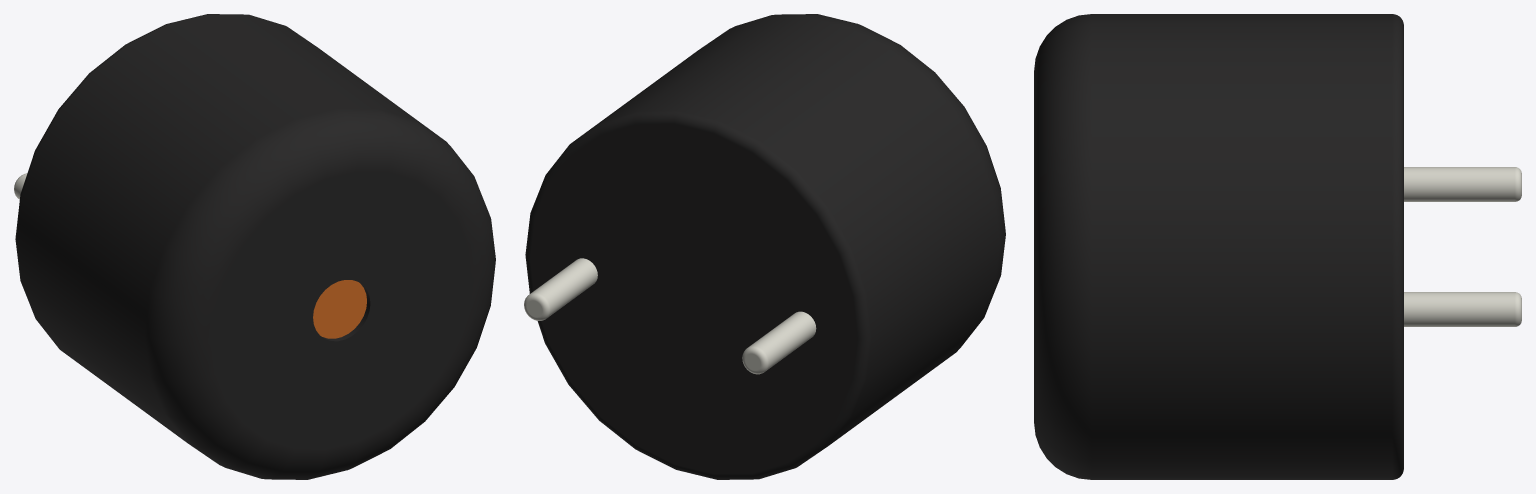
Rendered from Buzzer_12x9.5_piezo.glb.
3 views of the same model, side by side, from view 1: azimuth 30°, elevation 25°; view 2: azimuth 150°, elevation 25°; view 3: azimuth 270°, elevation 25° (orthographic). The views are drawn at different scales.
Visible parts, largest first — view 1: Buzzer_12x95RM76; view 2: Buzzer_12x95RM76; view 3: Buzzer_12x95RM76.
Boxes of the visible parts, box(x1,y1,x2,y2) form: Buzzer_12x95RM76: box(14, 14, 495, 479); Buzzer_12x95RM76: box(524, 14, 1005, 479); Buzzer_12x95RM76: box(1034, 14, 1521, 479).
Bounding box in the file's own units: 0.012 × 0.0119 × 0.0125.
